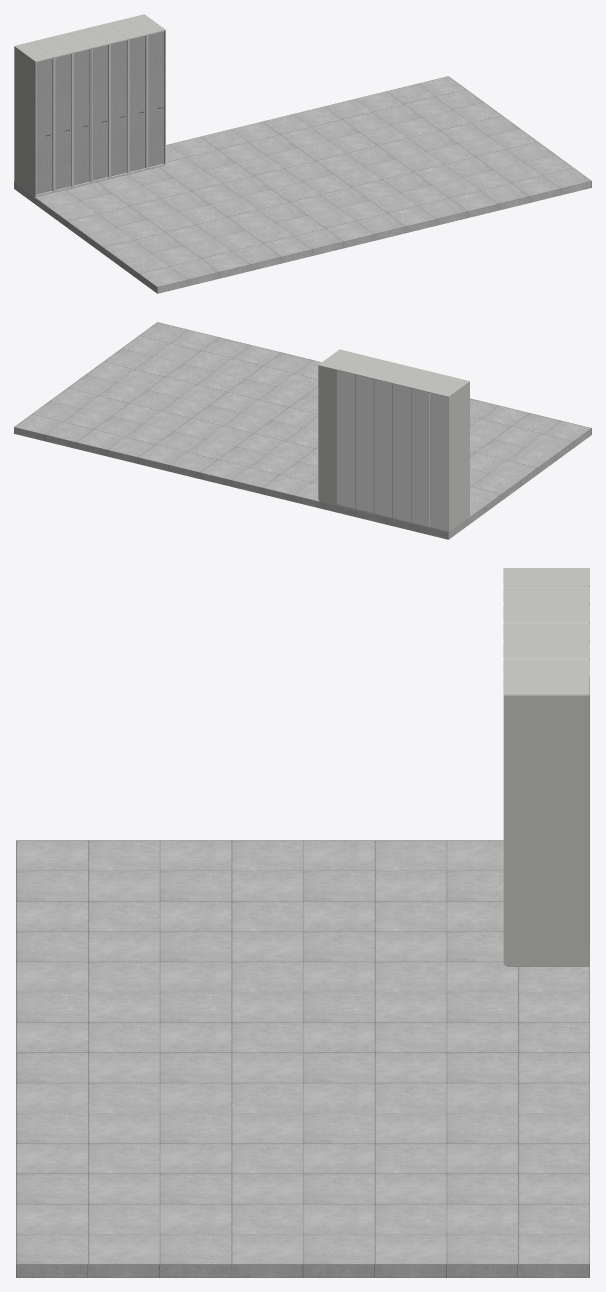
Rendered from modell.glb.
3 renders of one model, top to bottom at view 1: azimuth 30°, elevation 25°; view 2: azimuth 150°, elevation 25°; view 3: azimuth 270°, elevation 25°, orthographic. The views are drawn at different scales.
Bounding box in the file's own units: 7003 × 2202 × 4003.
Materials: 6 (4 with a texture image).
